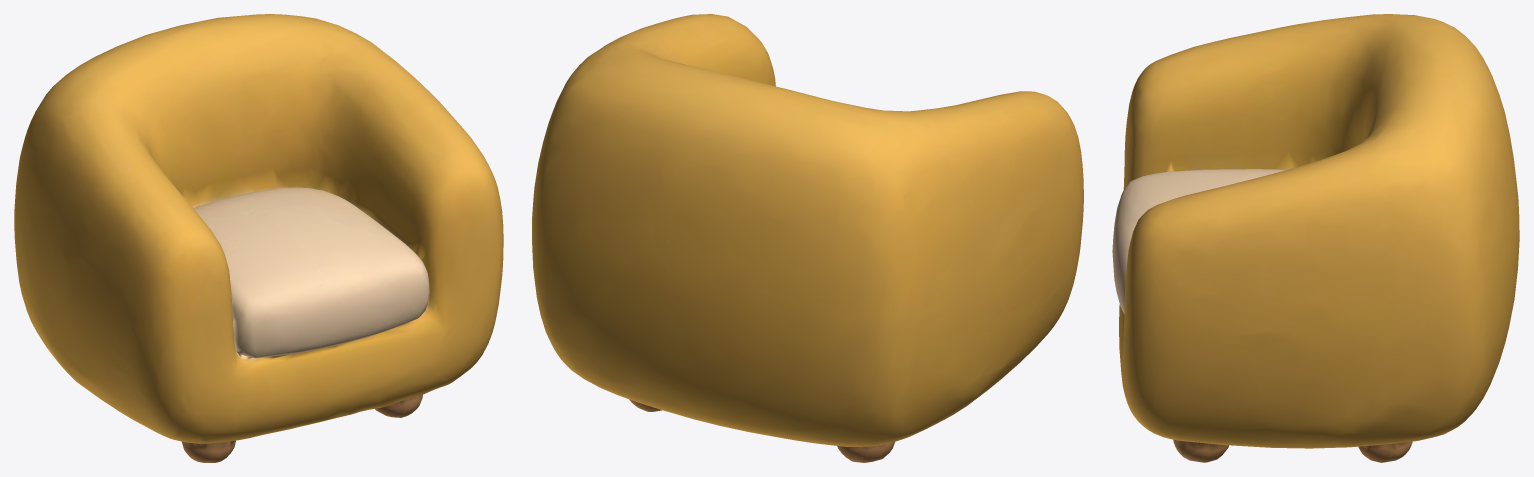
Rendered from living_armchair.glb.
The picture shows the model from 3 angles, left to right: view 1: azimuth 30°, elevation 25°; view 2: azimuth 150°, elevation 25°; view 3: azimuth 270°, elevation 25°; orthographic projection. The views are drawn at different scales.
Parts seen in each view (by area): view 1: tripo_node_8be3bde7-89af-4745-9e97-bdad02523a4f; view 2: tripo_node_8be3bde7-89af-4745-9e97-bdad02523a4f; view 3: tripo_node_8be3bde7-89af-4745-9e97-bdad02523a4f.
Part boxes in pixels (left/top/right/bottom): tripo_node_8be3bde7-89af-4745-9e97-bdad02523a4f: left=14, top=14, right=503, bottom=462; tripo_node_8be3bde7-89af-4745-9e97-bdad02523a4f: left=532, top=14, right=1083, bottom=462; tripo_node_8be3bde7-89af-4745-9e97-bdad02523a4f: left=1112, top=14, right=1519, bottom=462.
Size of the model in its own units: 0.8 by 0.6676 by 0.712.
Materials: 1 (1 with a texture image).
